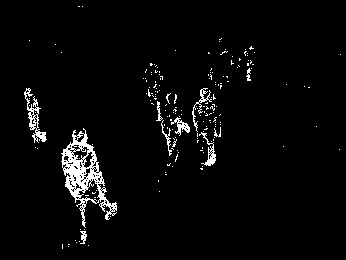person: (60, 128, 117, 243), (192, 88, 222, 167), (159, 92, 190, 165), (24, 86, 45, 141)
